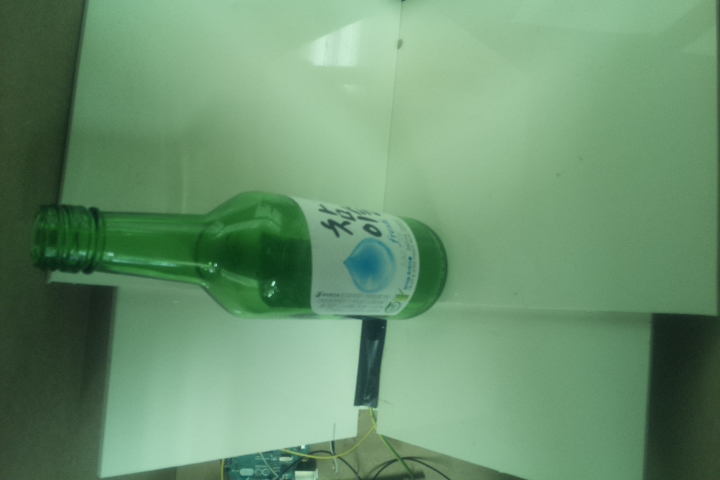soju: (30, 189, 450, 323)
